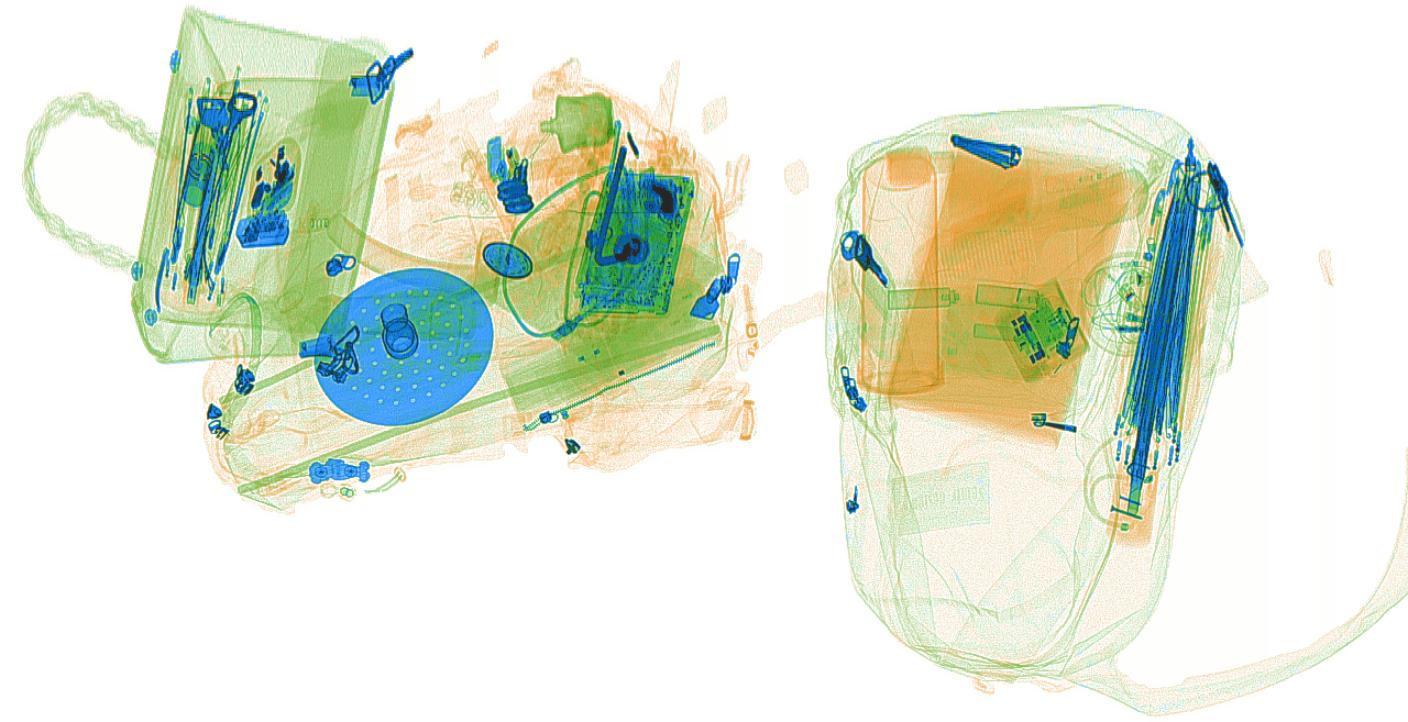plasticBottleWithaNozzle: (1043, 160, 1126, 195)
